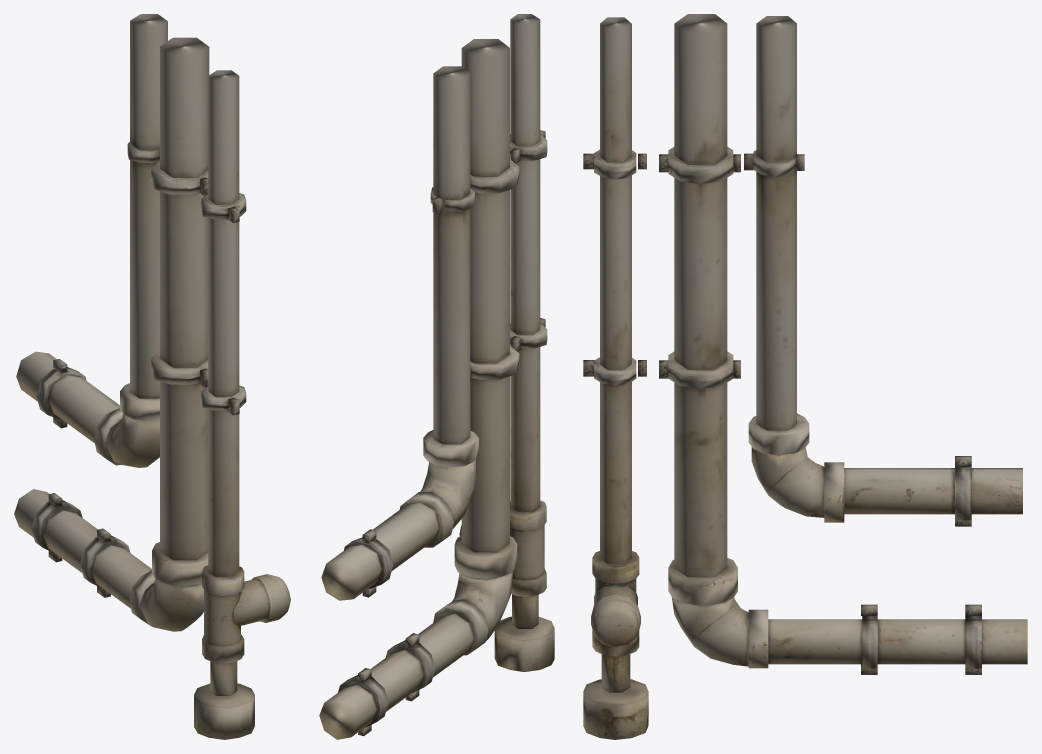
Rendered from Differentkindofpipes.fbx.
3 renders of one model, left to right at view 1: azimuth 30°, elevation 25°; view 2: azimuth 150°, elevation 25°; view 3: azimuth 270°, elevation 25°, orthographic. The views are drawn at different scales.
Visible parts, largest first — view 1: tripo_node_2787f3a3-613c-462b-b41d-f93d766843f0, tripo_node_2787f3a3-613c-462b-b41d-f93d766843f0.001, tripo_node_2787f3a3-613c-462b-b41d-f93d766843f0.002; view 2: tripo_node_2787f3a3-613c-462b-b41d-f93d766843f0, tripo_node_2787f3a3-613c-462b-b41d-f93d766843f0.002, tripo_node_2787f3a3-613c-462b-b41d-f93d766843f0.001; view 3: tripo_node_2787f3a3-613c-462b-b41d-f93d766843f0, tripo_node_2787f3a3-613c-462b-b41d-f93d766843f0.002, tripo_node_2787f3a3-613c-462b-b41d-f93d766843f0.001.
Part boxes in pixels (x1=…): tripo_node_2787f3a3-613c-462b-b41d-f93d766843f0: x1=14, y1=37, x2=209, y2=631; tripo_node_2787f3a3-613c-462b-b41d-f93d766843f0.001: x1=194, y1=70, x2=290, y2=739; tripo_node_2787f3a3-613c-462b-b41d-f93d766843f0.002: x1=16, y1=14, x2=167, y2=467; tripo_node_2787f3a3-613c-462b-b41d-f93d766843f0: x1=319, y1=39, x2=519, y2=739; tripo_node_2787f3a3-613c-462b-b41d-f93d766843f0.002: x1=321, y1=66, x2=478, y2=600; tripo_node_2787f3a3-613c-462b-b41d-f93d766843f0.001: x1=459, y1=14, x2=554, y2=671; tripo_node_2787f3a3-613c-462b-b41d-f93d766843f0: x1=659, y1=14, x2=1027, y2=674; tripo_node_2787f3a3-613c-462b-b41d-f93d766843f0.002: x1=744, y1=16, x2=1022, y2=526; tripo_node_2787f3a3-613c-462b-b41d-f93d766843f0.001: x1=583, y1=17, x2=648, y2=739.
Bounding box in the file's own units: 14.65 × 99.8 × 57.23.
1 material, 1 textured.
